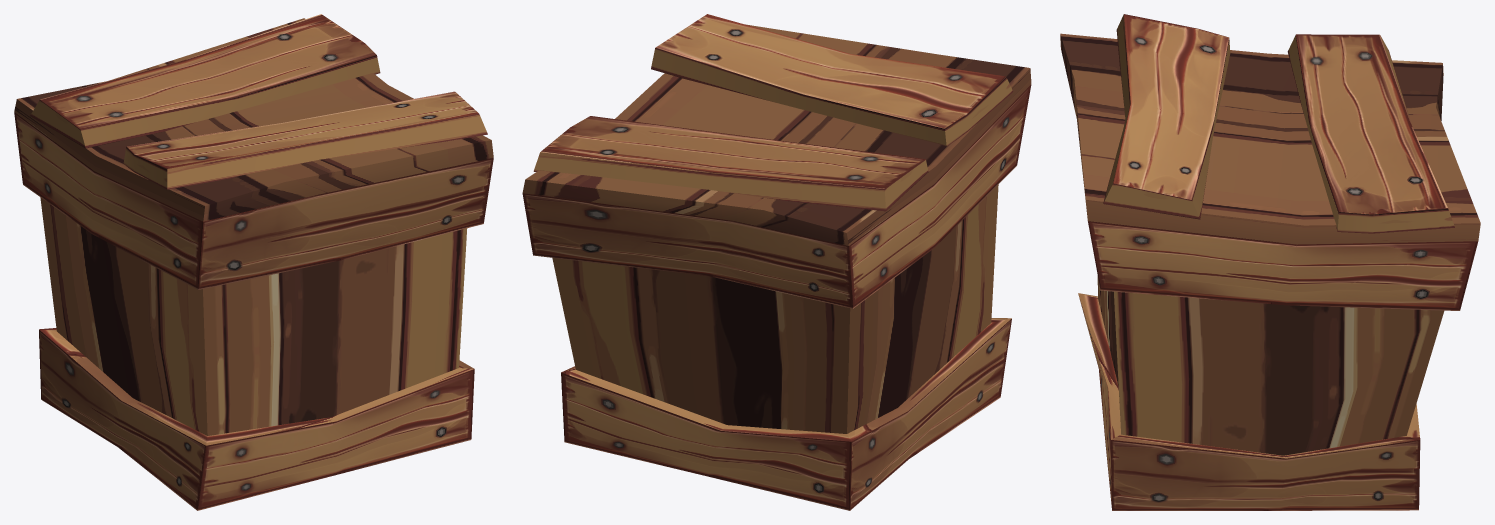
File: SM_PROP_box_01.fbx
3 renders of one model, left to right at view 1: azimuth 30°, elevation 25°; view 2: azimuth 150°, elevation 25°; view 3: azimuth 270°, elevation 25°, orthographic. The views are drawn at different scales.
Visible parts, largest first — view 1: SM_PROP_box_01; view 2: SM_PROP_box_01; view 3: SM_PROP_box_01.
Boxes of the visible parts, bbox=[...] form: SM_PROP_box_01: bbox=[14, 14, 493, 510]; SM_PROP_box_01: bbox=[522, 14, 1031, 510]; SM_PROP_box_01: bbox=[1060, 14, 1480, 510].
Bounding box in the file's own units: 98.06 × 96.58 × 106.
